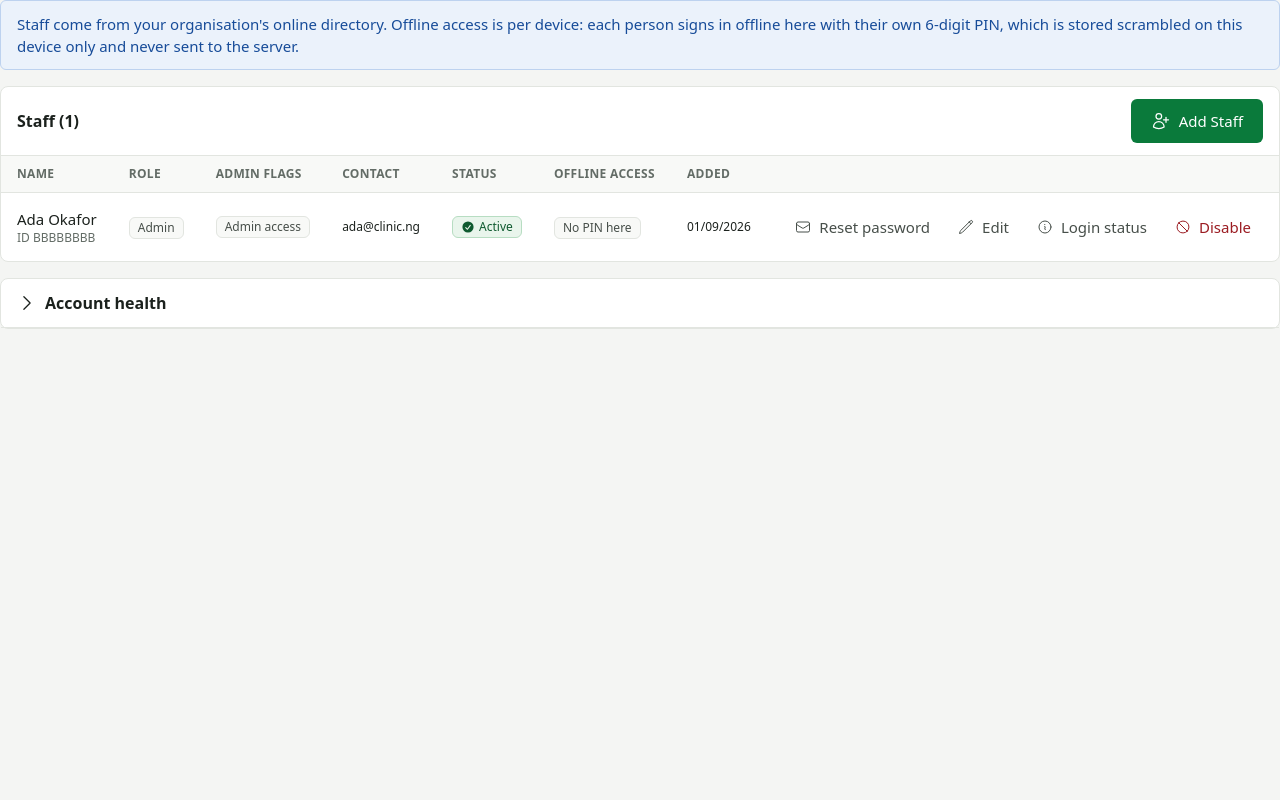
Test case: UserManagement, server mode › warns before disabling an administrator that it can't be undone from this screen
The image size is (1280, 800).
Click the button with aria-label "Disable, Ada Okafor": (1213, 227) [1163,205,1263,249]
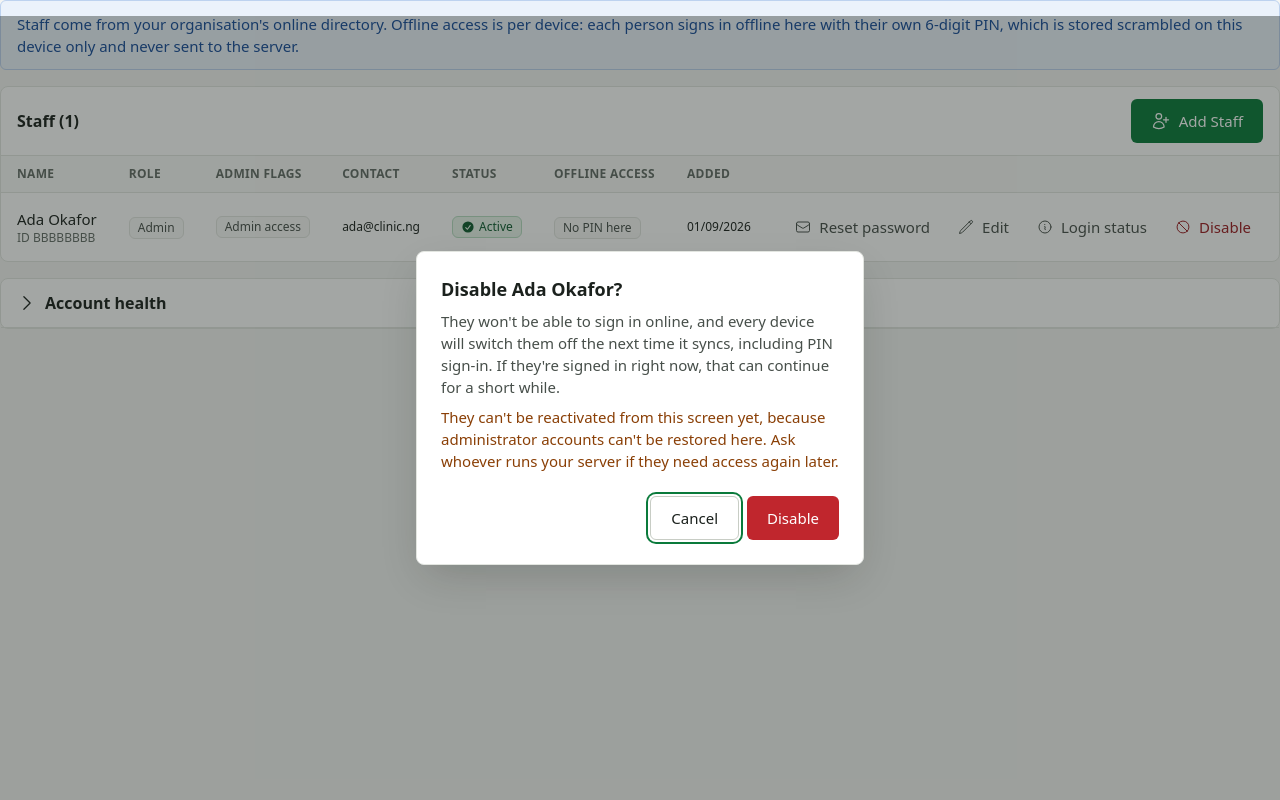
Now the text "They can't be reactivated from this screen yet, because administrator accounts can't be restored here. Ask whoever runs " is shown, box [441,407,839,471]
